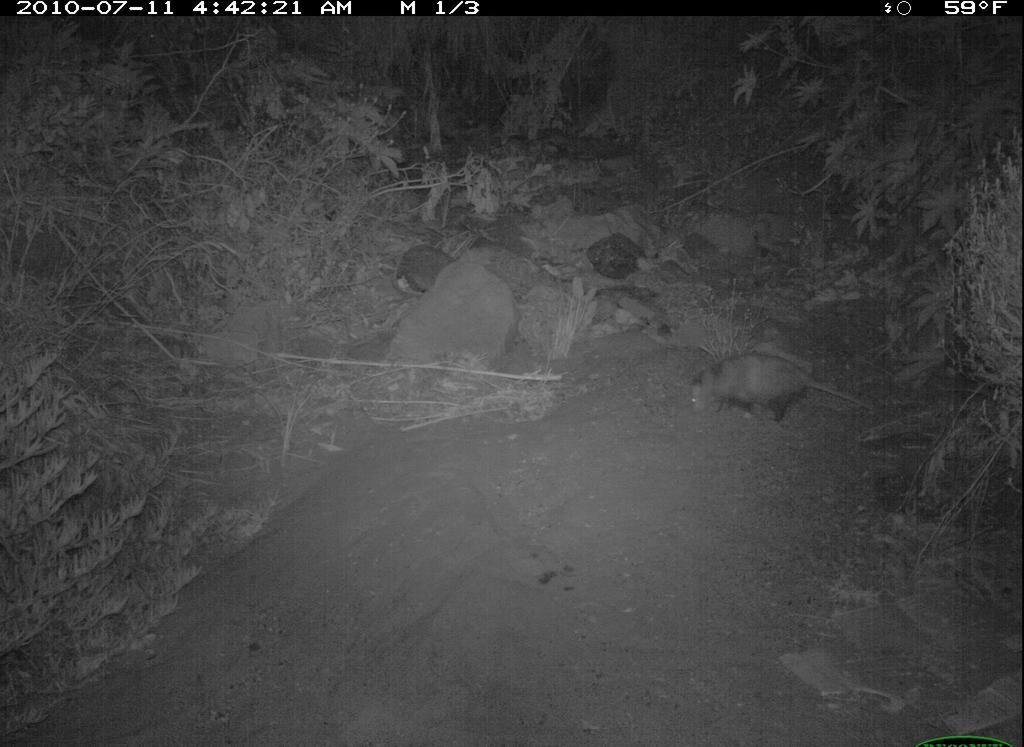opossum: (679, 338, 886, 441)
